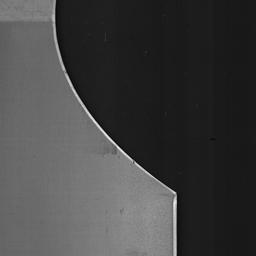Crescent gap: (56, 0, 176, 192)
